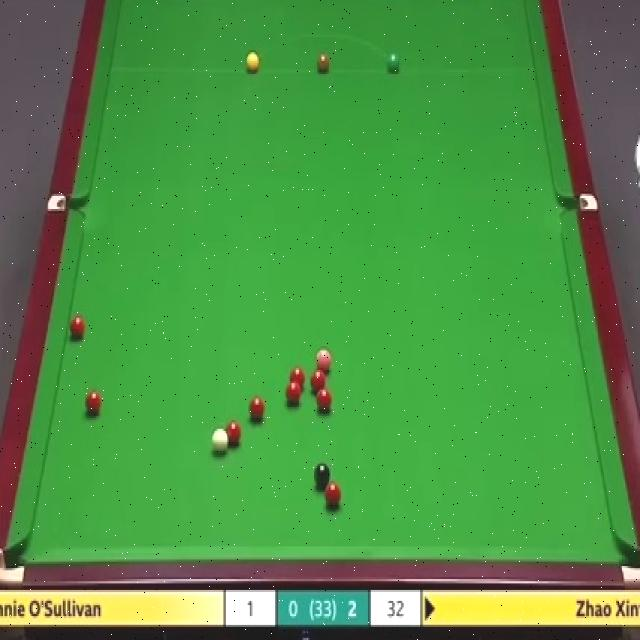black-ball: (313, 462, 331, 493)
brown-ball: (316, 54, 331, 76)
green-ball: (386, 52, 401, 76)
pink-ball: (312, 347, 332, 373)
red-ball: (82, 386, 103, 419), (224, 421, 243, 451), (323, 483, 342, 509), (284, 382, 302, 407), (68, 315, 85, 341), (250, 398, 266, 424), (288, 366, 306, 389), (316, 387, 332, 412), (310, 370, 326, 392)
white-ball: (210, 425, 232, 457)
yellow-ball: (246, 52, 260, 74)
